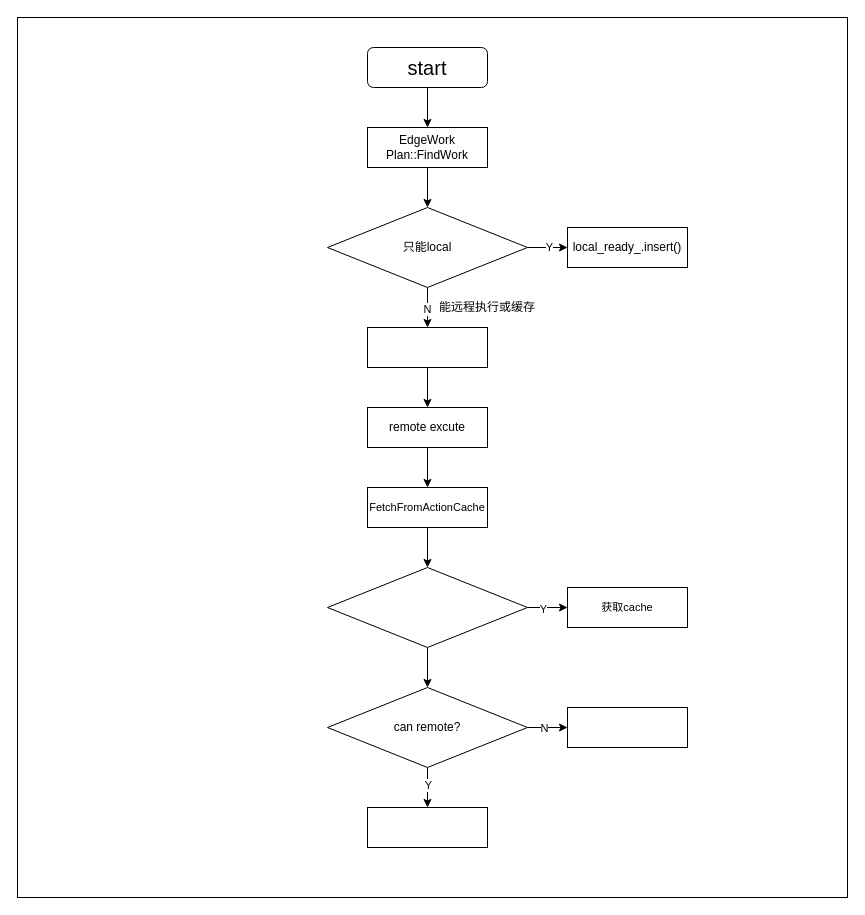
Some shapes in this 865 by 915 pixel diagram are drawn without their labels. Here are the shapes that lost their labels. From the top down, the centre of each, then its label:
At (x=427, y=347): "return { edge, false/true }".
At (x=427, y=607): "cache".
At (x=627, y=727): "本地执行，上传cache".
At (x=427, y=827): "远程执行".
